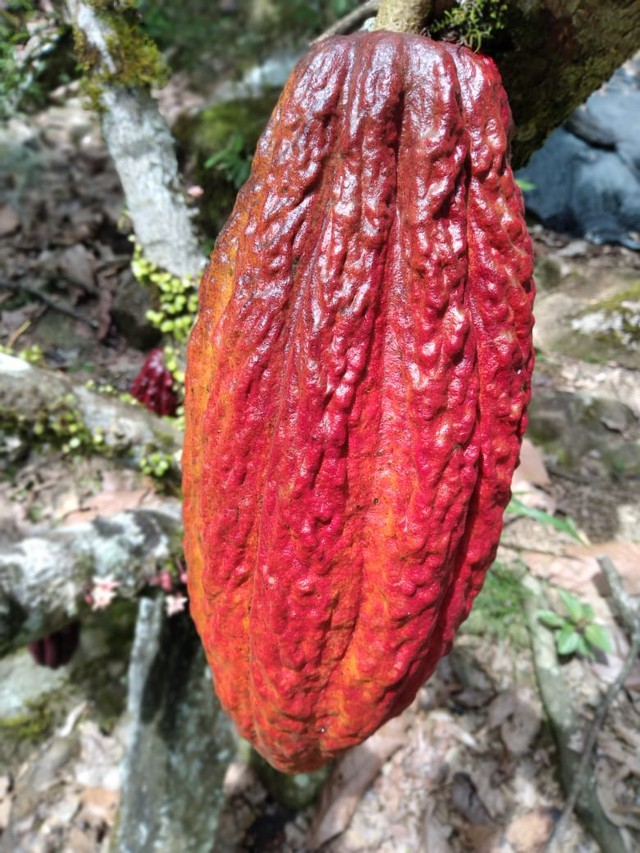Health: (177, 24, 542, 782)
